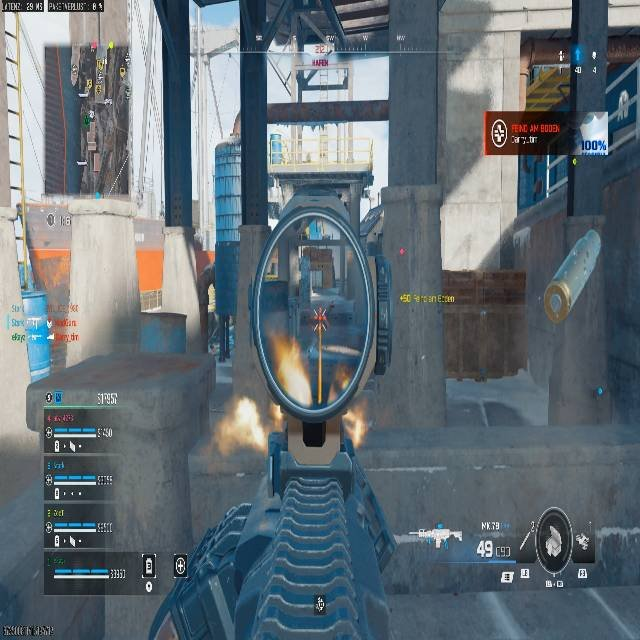player: (306, 304, 327, 357), (312, 304, 328, 338)
